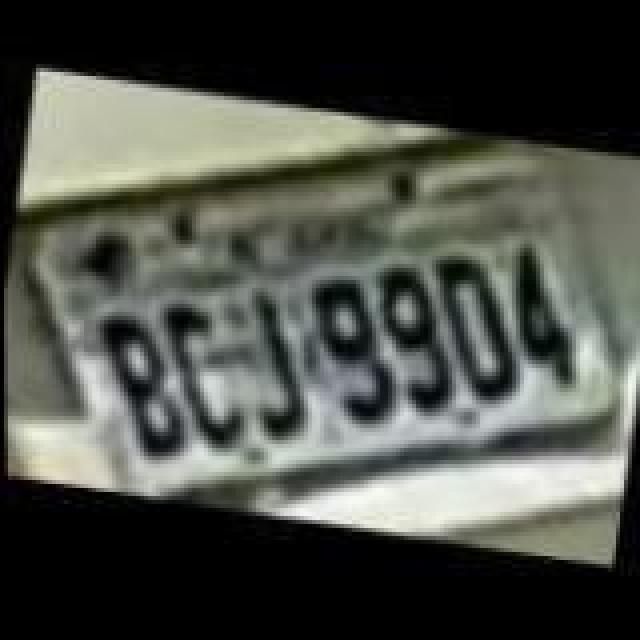4: (492, 244, 604, 396)
9: (292, 268, 412, 432), (358, 262, 474, 426)
B: (74, 308, 210, 468)
C: (138, 298, 266, 462)
J: (224, 286, 328, 446)
O: (414, 246, 538, 410)
